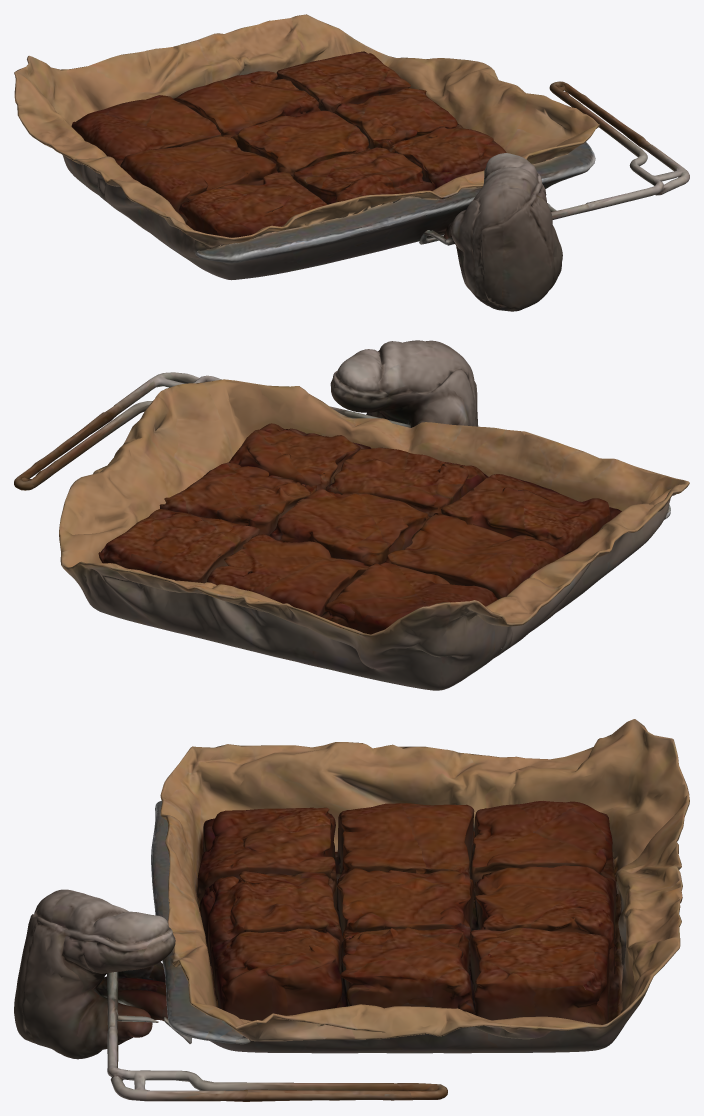
File: bandeja-brownies.glb
3 renders of one model, top to bottom at view 1: azimuth 30°, elevation 25°; view 2: azimuth 150°, elevation 25°; view 3: azimuth 270°, elevation 25°, orthographic. The views are drawn at different scales.
Visible parts, largest first — view 1: tripo_node_7e912cd7-3142-4c16-8479-fdaddb6aab59; view 2: tripo_node_7e912cd7-3142-4c16-8479-fdaddb6aab59; view 3: tripo_node_7e912cd7-3142-4c16-8479-fdaddb6aab59.
Boxes of the visible parts, <box> form: tripo_node_7e912cd7-3142-4c16-8479-fdaddb6aab59: <box>14,14,689,311</box>; tripo_node_7e912cd7-3142-4c16-8479-fdaddb6aab59: <box>14,340,689,690</box>; tripo_node_7e912cd7-3142-4c16-8479-fdaddb6aab59: <box>14,719,689,1101</box>.
Bounding box in the file's own units: 0.9807 × 0.2434 × 0.9376.
Materials: 1 (1 with a texture image).
